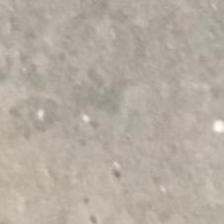Non_Crack: (10, 36, 207, 195)
